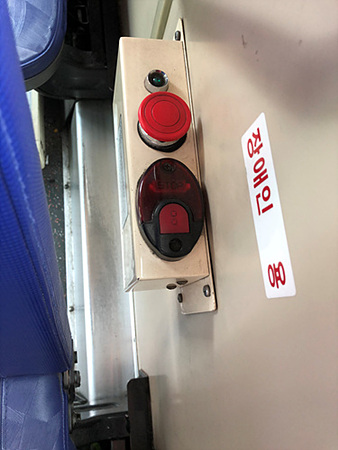bell: (135, 157, 207, 261)
